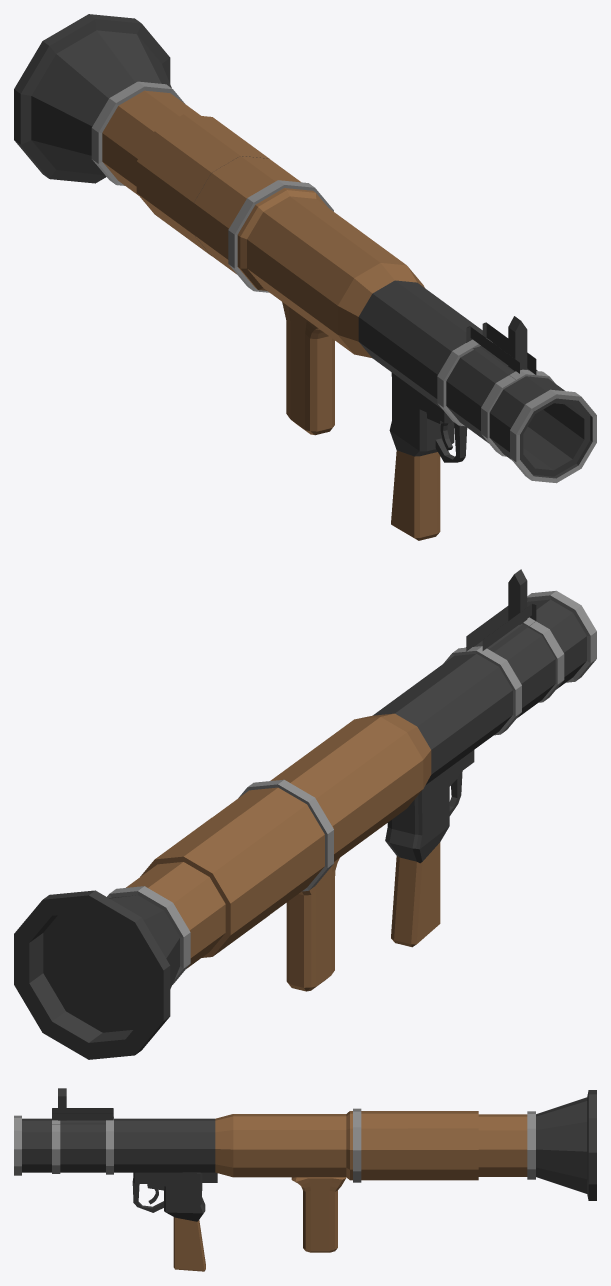
The model's file is rocket-launcher.obj.
3 views of the same model, one above another, from view 1: azimuth 30°, elevation 25°; view 2: azimuth 150°, elevation 25°; view 3: azimuth 270°, elevation 25° (orthographic). The views are drawn at different scales.
Size of the model in its own units: 1.95 by 3.62 by 10.57.
